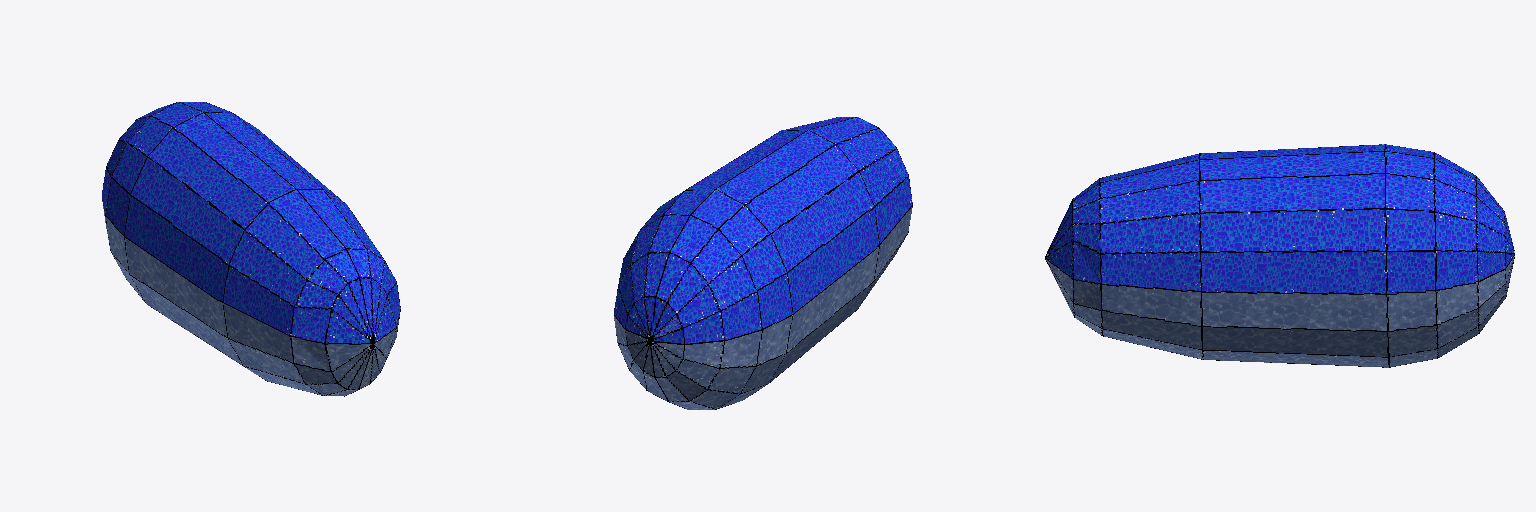
The picture shows the model from 3 angles: view 1: azimuth 30°, elevation 25°; view 2: azimuth 150°, elevation 25°; view 3: azimuth 270°, elevation 25°; orthographic projection.
Visible parts, largest first — view 1: sphere7; view 2: sphere7; view 3: sphere7.
Part boxes in pixels (bbox=[...]): sphere7: bbox=[102, 102, 400, 396]; sphere7: bbox=[614, 117, 912, 409]; sphere7: bbox=[1045, 144, 1514, 367].
Bounding box in the file's own units: 0.3728 × 0.4772 × 0.9688.
1 materials, 1 textured.